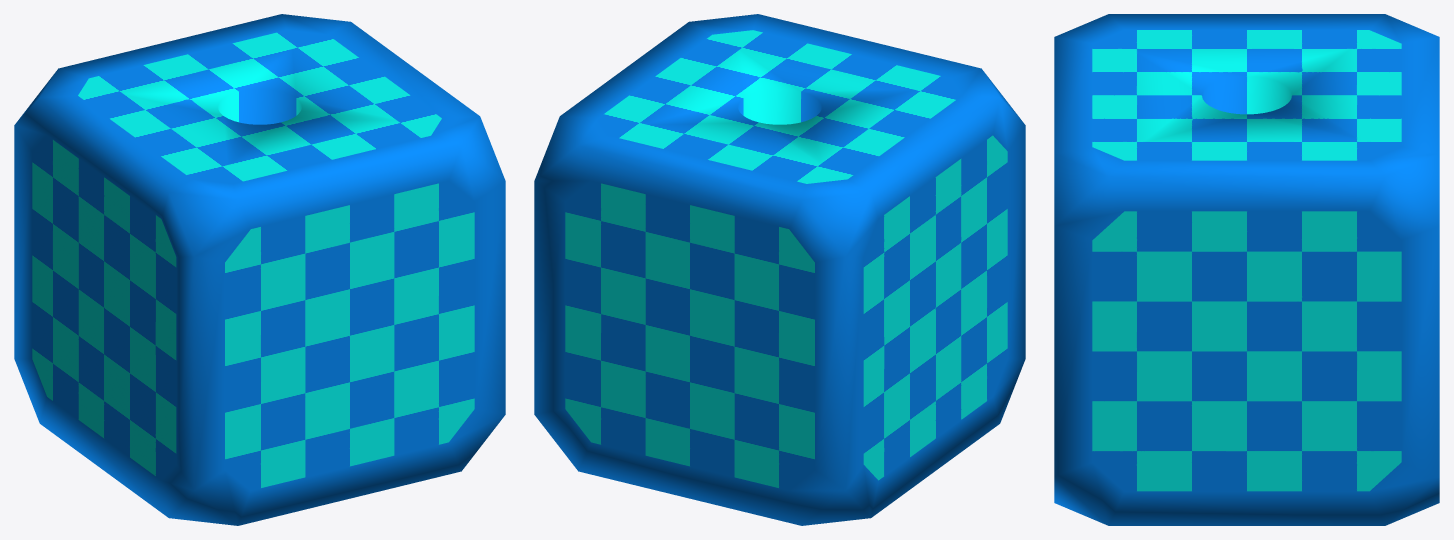
The model's file is MachineBossWrapPartsScrew.fbx.
3 views of the same model, side by side, from view 1: azimuth 30°, elevation 25°; view 2: azimuth 150°, elevation 25°; view 3: azimuth 270°, elevation 25° (orthographic). The views are drawn at different scales.
Parts seen in each view (by area): view 1: Cube.001, Cube.000; view 2: Cube.001, Cube.000; view 3: Cube.001, Cube.000.
Boxes of the visible parts, x1=… form: Cube.001: x1=32, y1=30, x2=474, y2=490; Cube.000: x1=14, y1=14, x2=505, y2=525; Cube.001: x1=565, y1=30, x2=1007, y2=490; Cube.000: x1=534, y1=14, x2=1025, y2=525; Cube.001: x1=1092, y1=30, x2=1401, y2=491; Cube.000: x1=1054, y1=14, x2=1439, y2=525.
Size of the model in its own units: 105000 by 105000 by 105000.
2 materials, 2 textured.
